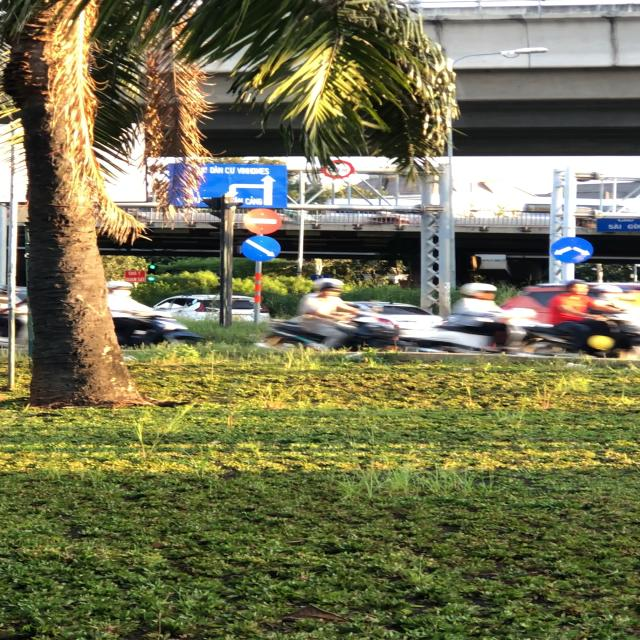Bien bao cam di nguoc chieu: (240, 206, 284, 236)
Bien bao han che chieu cao: (317, 159, 360, 179)
Bien bao huong phai di vong chuong ngai vat: (548, 234, 596, 266), (229, 235, 283, 263)
